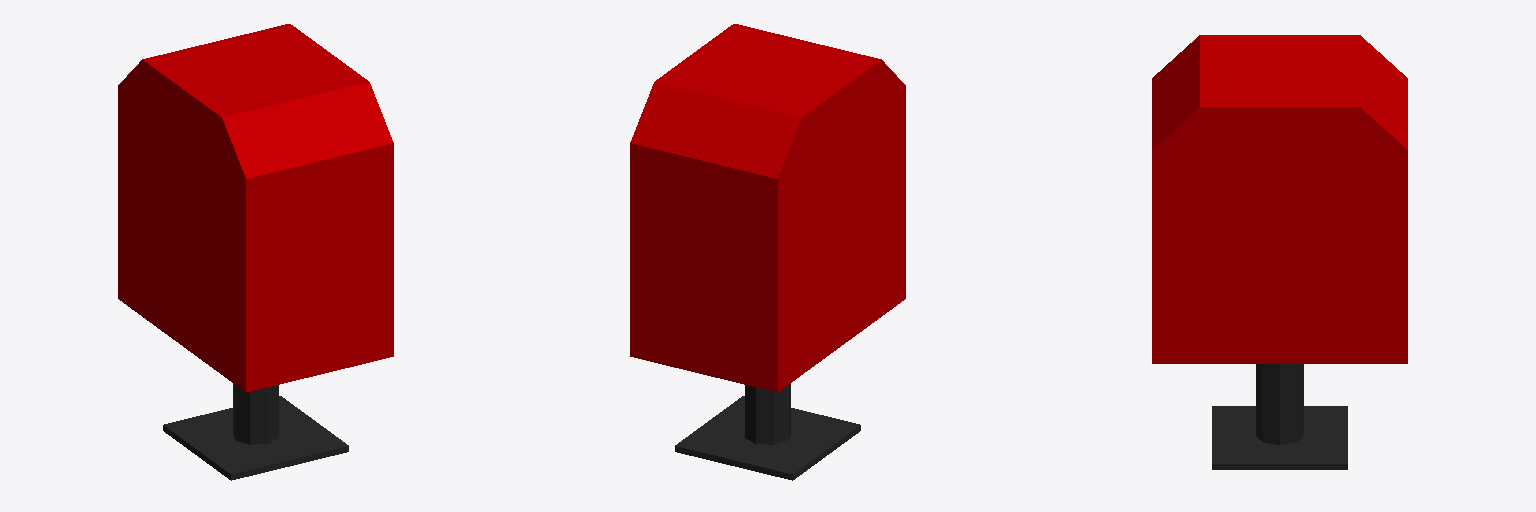
The model's file is nwsppr1.obj.
3 renders of one model, left to right at view 1: azimuth 30°, elevation 25°; view 2: azimuth 150°, elevation 25°; view 3: azimuth 270°, elevation 25°, orthographic.
Visible parts, largest first — view 1: Cube.001; view 2: Cube.001; view 3: Cube.001.
Part boxes in pixels (bbox=[...]): Cube.001: bbox=[118, 24, 393, 480]; Cube.001: bbox=[630, 24, 905, 480]; Cube.001: bbox=[1152, 35, 1407, 469].
Size of the model in its own units: 0.5 by 1.2 by 0.7503.